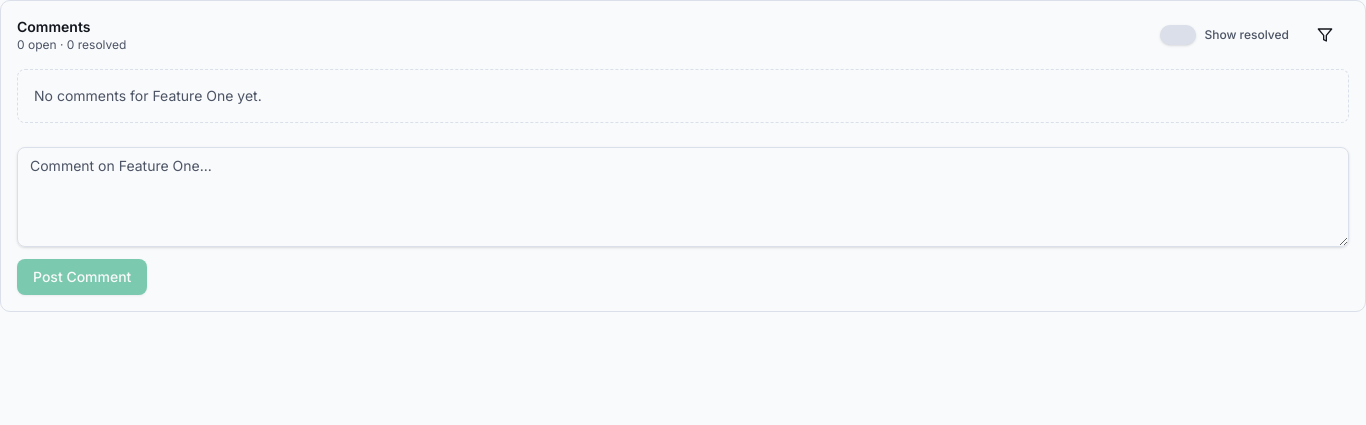
Test: CommentsPanel › creates a comment from the composer
This screenshot has width=1366, height=425.
In the text box with placeholder "Comment on Feature One...": (683, 197) [17,147,1349,247], type "New comment"
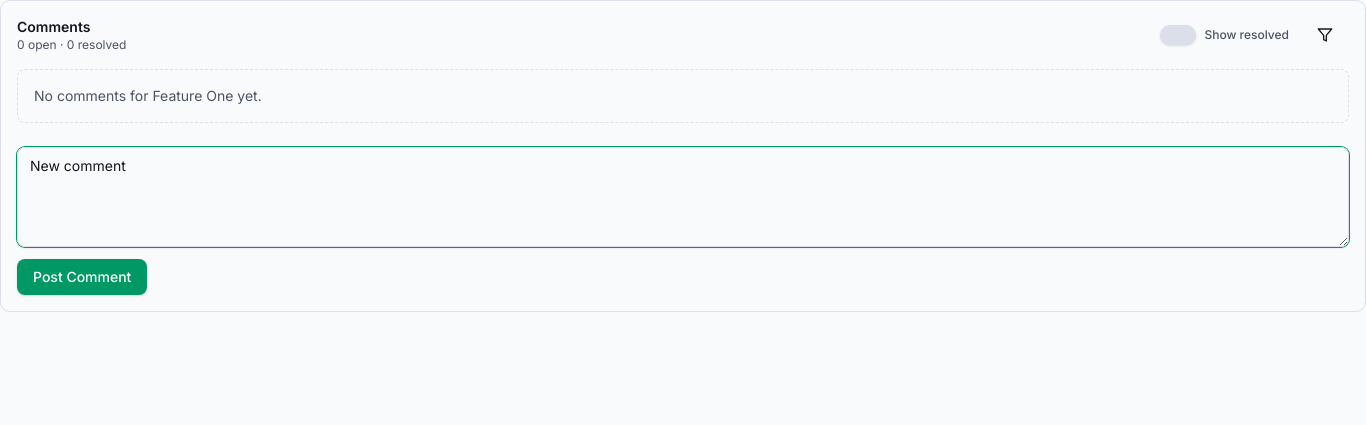
Click the button "Post Comment": (82, 277) [17,259,147,295]
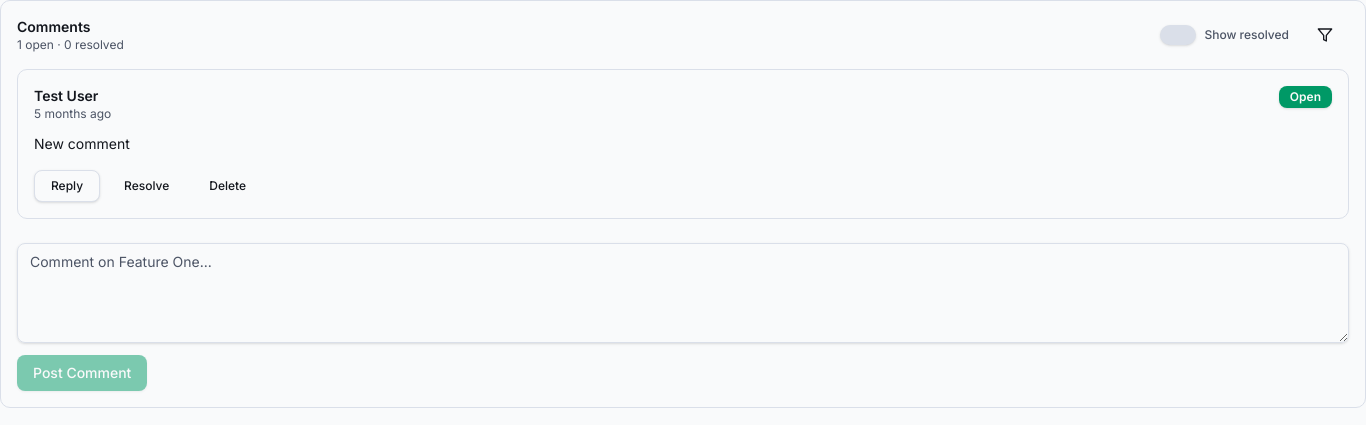
Expected: the text "New comment" is shown, [34,135,130,152]
